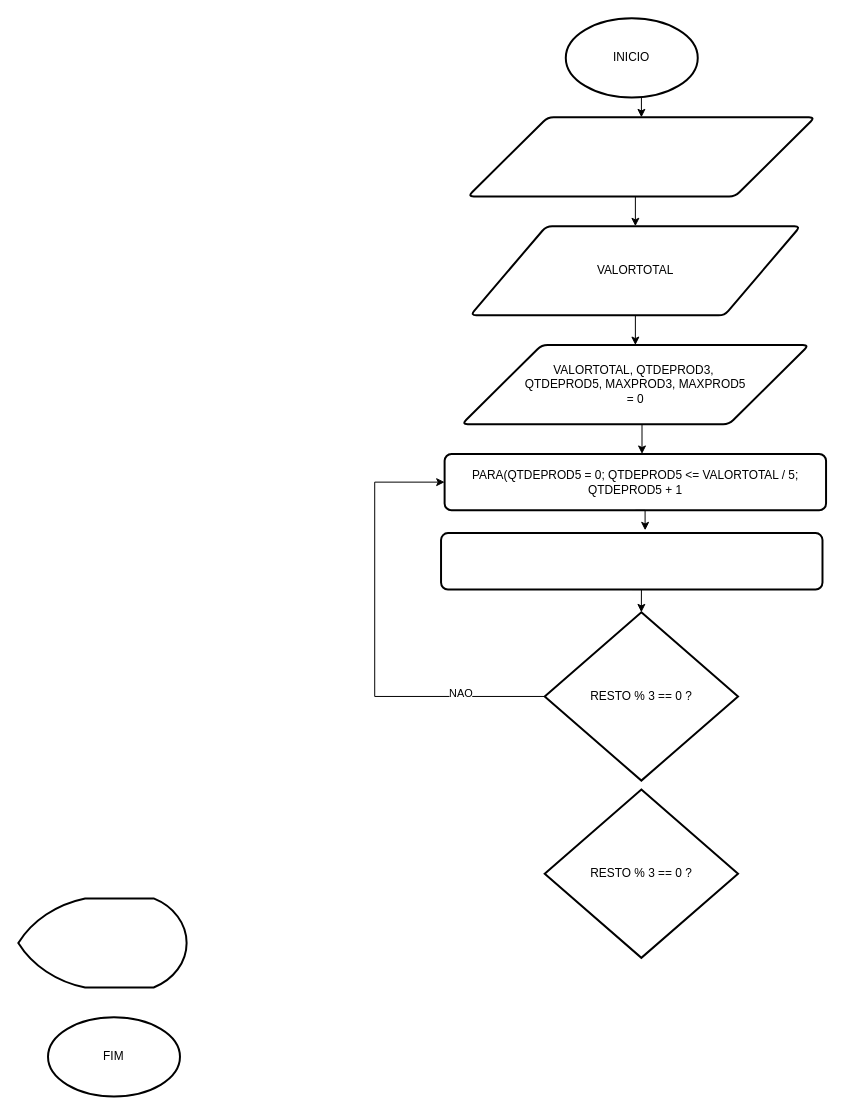
Some shapes in this 843 by 1114 pixel diagram are drawn without their labels. Each missing label, with the box of its shape:
INTEIRO VALORTOTAL, QTDEPROD3, QTDEPROD5, MAXPROD3, MAXPROD5 TOTALPROD, RESTO: (466, 116, 815, 197)
RESTO = VALORTOTAL - (QTDEPRO5 * 5): (440, 532, 823, 590)
VAR_NUM[I] > MEDIA: (17, 897, 187, 988)
